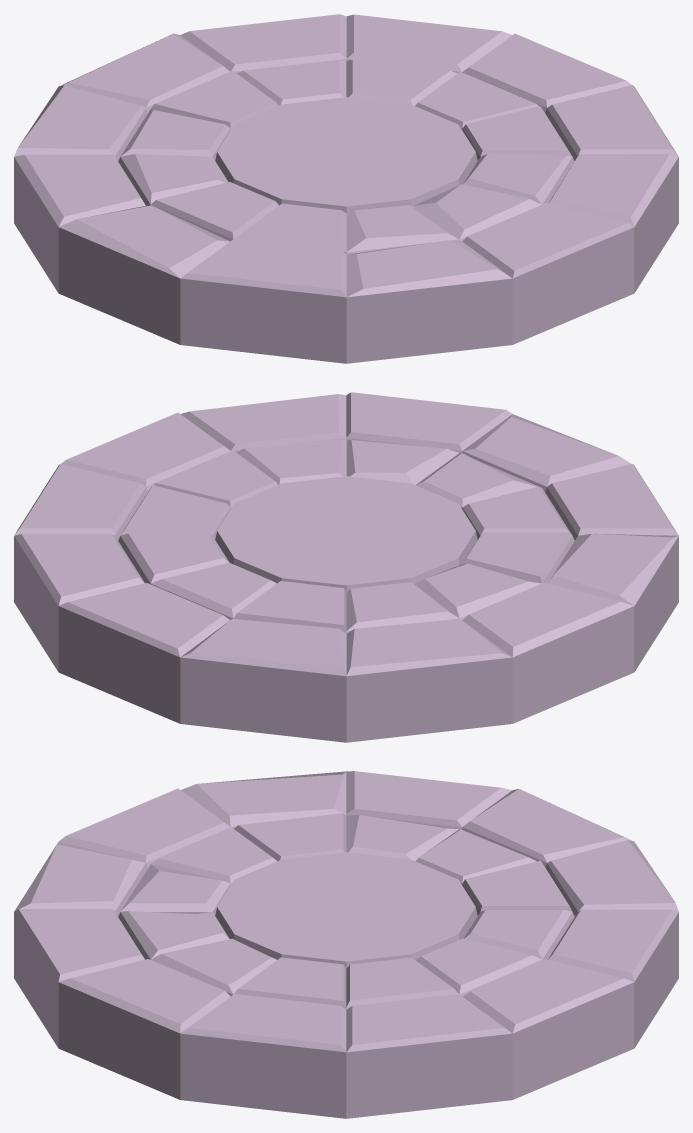
Rendered from the_disc_of_fate.fbx.
3 renders of one model, top to bottom at view 1: azimuth 30°, elevation 25°; view 2: azimuth 150°, elevation 25°; view 3: azimuth 270°, elevation 25°, orthographic.
Parts seen in each view (by area): view 1: Disc; view 2: Disc; view 3: Disc.
Part boxes in pixels (x1=…): Disc: x1=14, y1=14, x2=678, y2=363; Disc: x1=14, y1=392, x2=678, y2=742; Disc: x1=14, y1=771, x2=678, y2=1118.
Size of the model in its own units: 4.43 by 0.5248 by 4.43.
